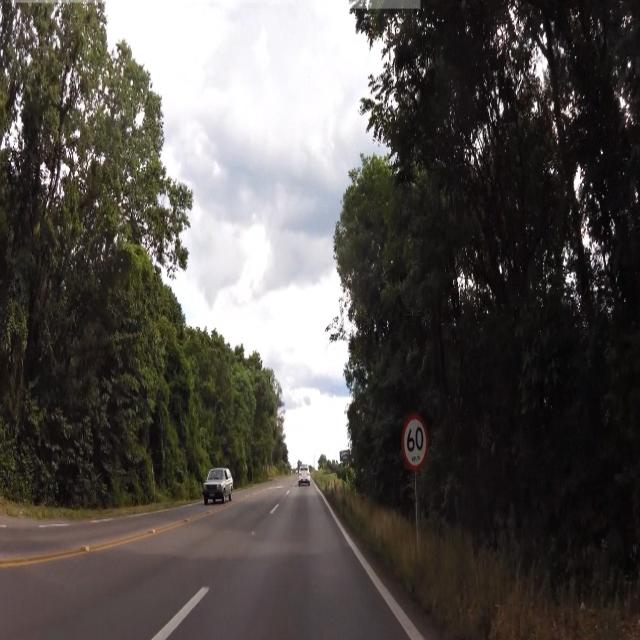R-19: (399, 416, 428, 470)
